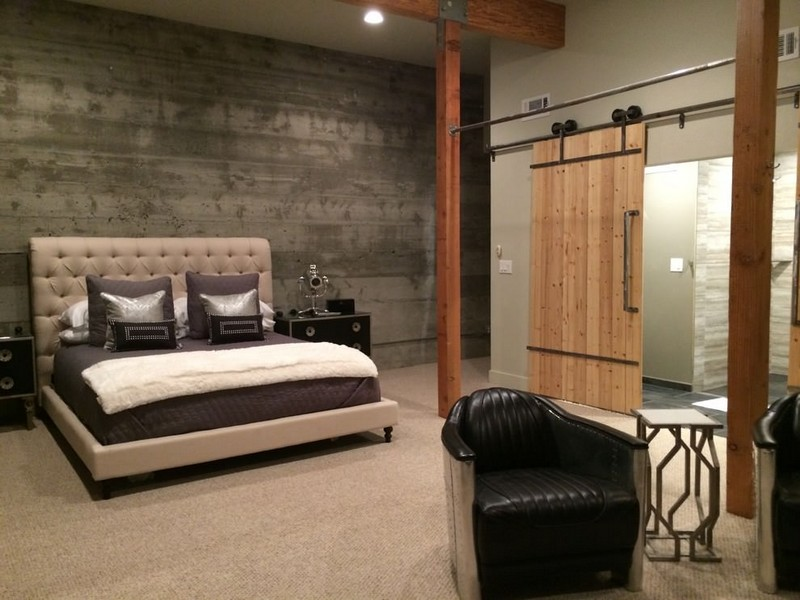bed: (27, 232, 398, 489)
chair: (444, 387, 643, 591)
door: (531, 117, 648, 418)
stool: (629, 403, 727, 574), (276, 301, 373, 374), (2, 328, 43, 435)
